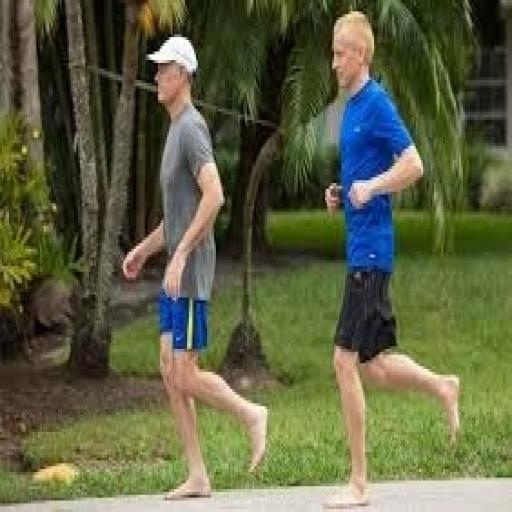running: (321, 9, 463, 509), (120, 32, 270, 504)
